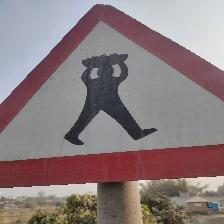Market-in-front: (1, 2, 223, 186)
